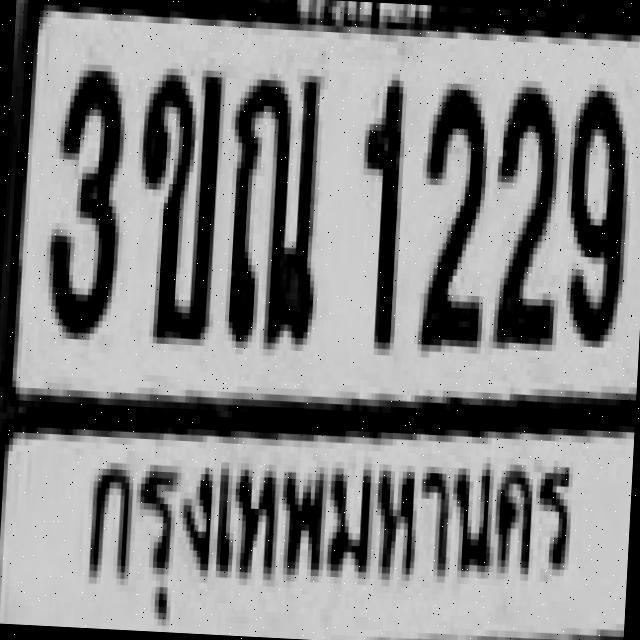1: (350, 76, 404, 347)
11KhorKhai: (130, 64, 222, 337)
2: (414, 80, 491, 344), (488, 82, 564, 342)
28NorNen: (220, 66, 321, 344)
3: (43, 60, 124, 332)
9: (560, 83, 629, 342)
Bangkok: (65, 426, 582, 640)
